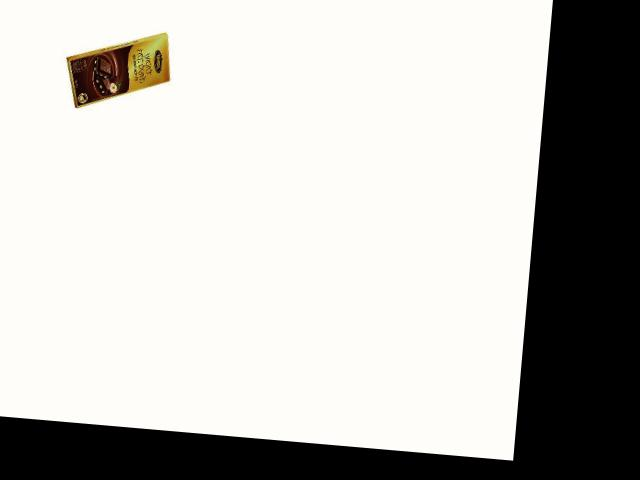chocolate: (52, 20, 174, 116)
